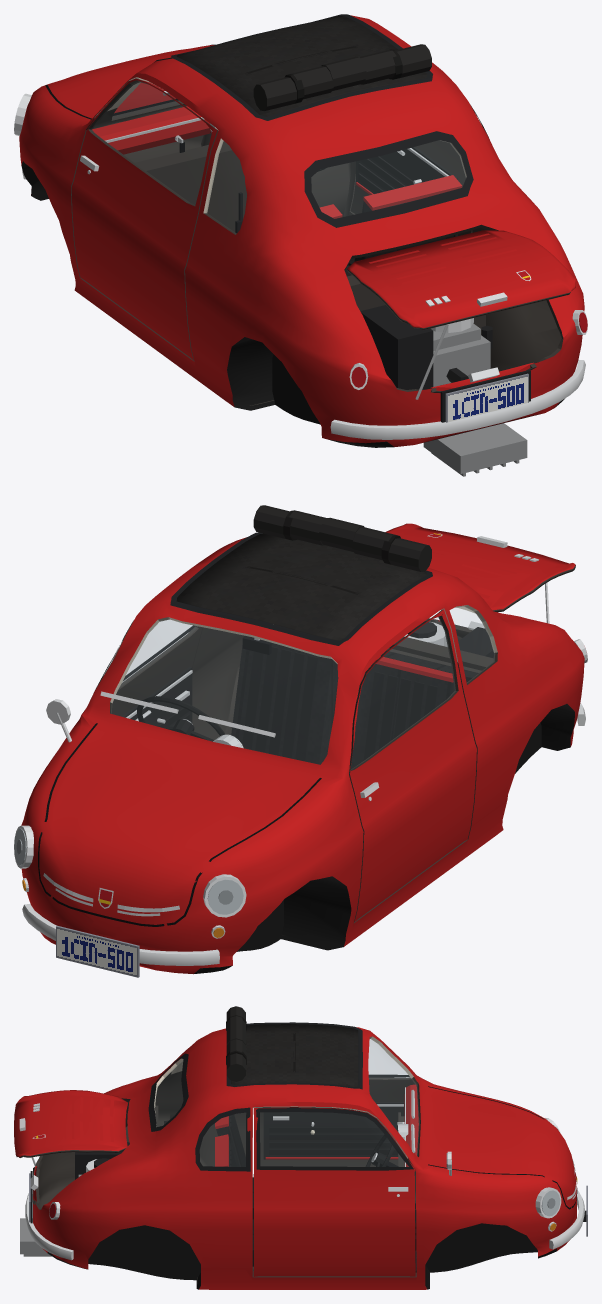
File: abarth595_classic.glb
3 renders of one model, top to bottom at view 1: azimuth 30°, elevation 25°; view 2: azimuth 150°, elevation 25°; view 3: azimuth 270°, elevation 25°, orthographic. The views are drawn at different scales.
Parts seen in each view (by area): view 1: Body, Door_L, Interior, Glass, Roof_Closed, Door_L_Glass, Roof_Open, Door_R; view 2: Body, Glass, Interior, Door_L, Roof_Closed, Door_L_Glass, Roof_Open, Door_R, Lights_Head, SteeringWheel; view 3: Body, Door_R, Door_L, Roof_Closed, Door_R_Glass, Glass, Interior, Roof_Open, SteeringWheel.
Boxes of the visible parts, x1,y1,x2,y2 form: Body: [14, 14, 587, 476]; Door_L: [71, 78, 218, 360]; Interior: [92, 106, 485, 335]; Glass: [148, 82, 465, 233]; Roof_Closed: [176, 16, 427, 116]; Door_L_Glass: [91, 82, 211, 204]; Roof_Open: [253, 44, 431, 110]; Door_R: [350, 140, 472, 236]; Body: [14, 523, 587, 977]; Glass: [111, 606, 494, 763]; Interior: [179, 635, 493, 769]; Door_L: [349, 609, 476, 922]; Roof_Closed: [176, 533, 427, 640]; Door_L_Glass: [351, 617, 455, 768]; Roof_Open: [253, 505, 431, 571]; Door_R: [90, 620, 202, 726]; Lights_Head: [14, 828, 243, 914]; SteeringWheel: [137, 696, 225, 741]; Body: [14, 1022, 587, 1289]; Door_R: [253, 1107, 415, 1276]; Door_L: [253, 1074, 414, 1176]; Roof_Closed: [231, 1024, 358, 1086]; Door_R_Glass: [260, 1112, 408, 1166]; Glass: [155, 1039, 419, 1166]; Interior: [155, 1084, 418, 1275]; Roof_Open: [226, 1006, 246, 1081]; SteeringWheel: [365, 1127, 398, 1166].
Size of the model in its own units: 1.32 by 1.29 by 3.13.
30 materials, 6 textured.
